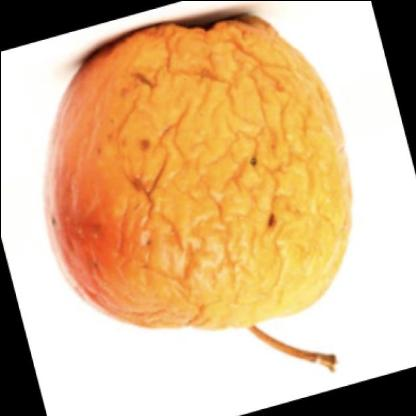defect: (36, 20, 350, 328)
